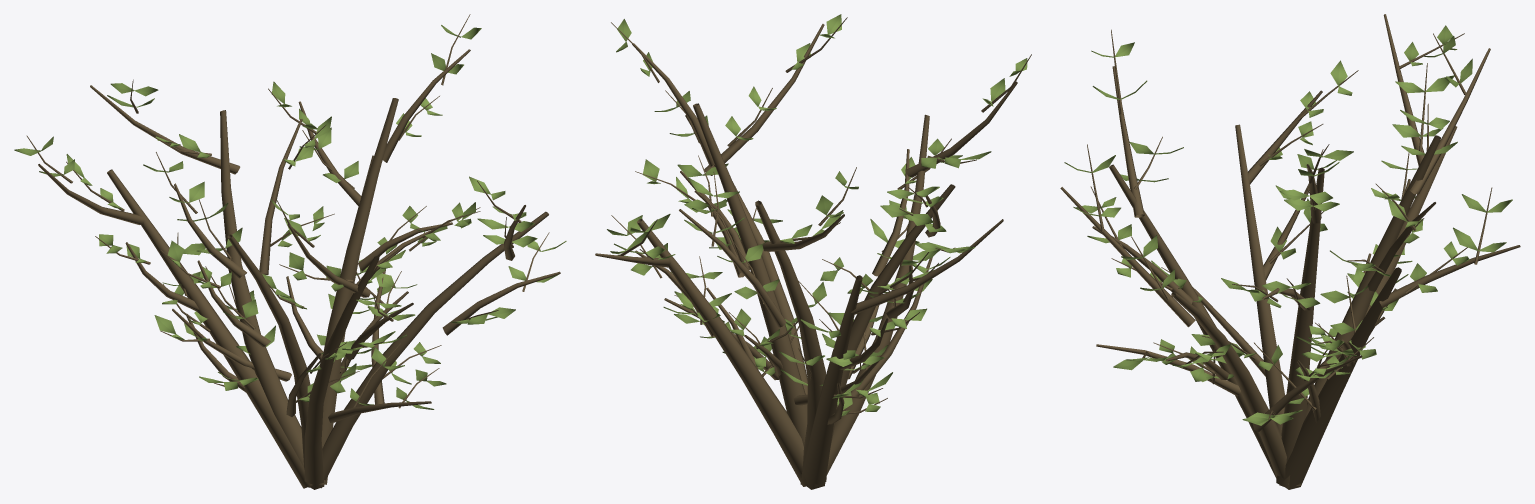
Rendered from Lentisque_1_Low.fbx.
3 views of the same model, side by side, from view 1: azimuth 30°, elevation 25°; view 2: azimuth 150°, elevation 25°; view 3: azimuth 270°, elevation 25° (orthographic). The views are drawn at different scales.
Parts seen in each view (by area): view 1: Lentisque_1_Low; view 2: Lentisque_1_Low; view 3: Lentisque_1_Low.
Boxes of the visible parts, <box> form: Lentisque_1_Low: <box>14,14,566,489</box>; Lentisque_1_Low: <box>595,14,1031,489</box>; Lentisque_1_Low: <box>1060,14,1520,489</box>.
Size of the model in its own units: 171 by 156 by 152.
